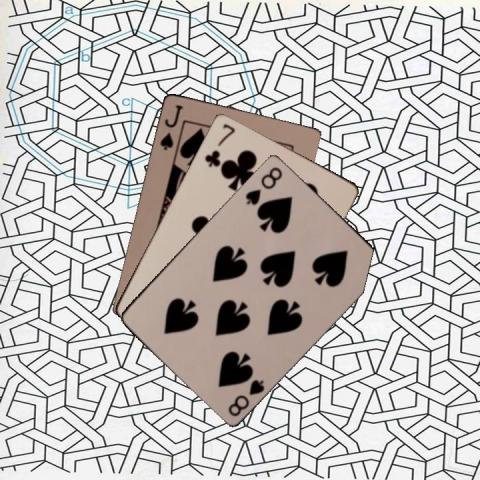7c: (201, 120, 236, 168)
8s: (242, 163, 284, 206), (225, 376, 266, 417)
Js: (156, 102, 184, 152)
